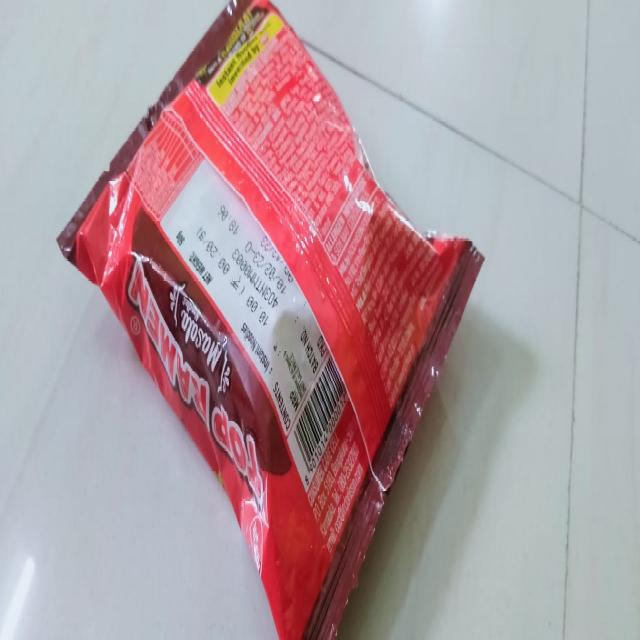maggi: (50, 0, 487, 640)
